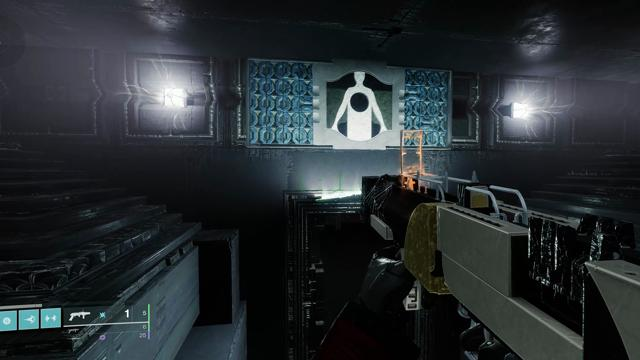grief: (326, 71, 393, 141)
